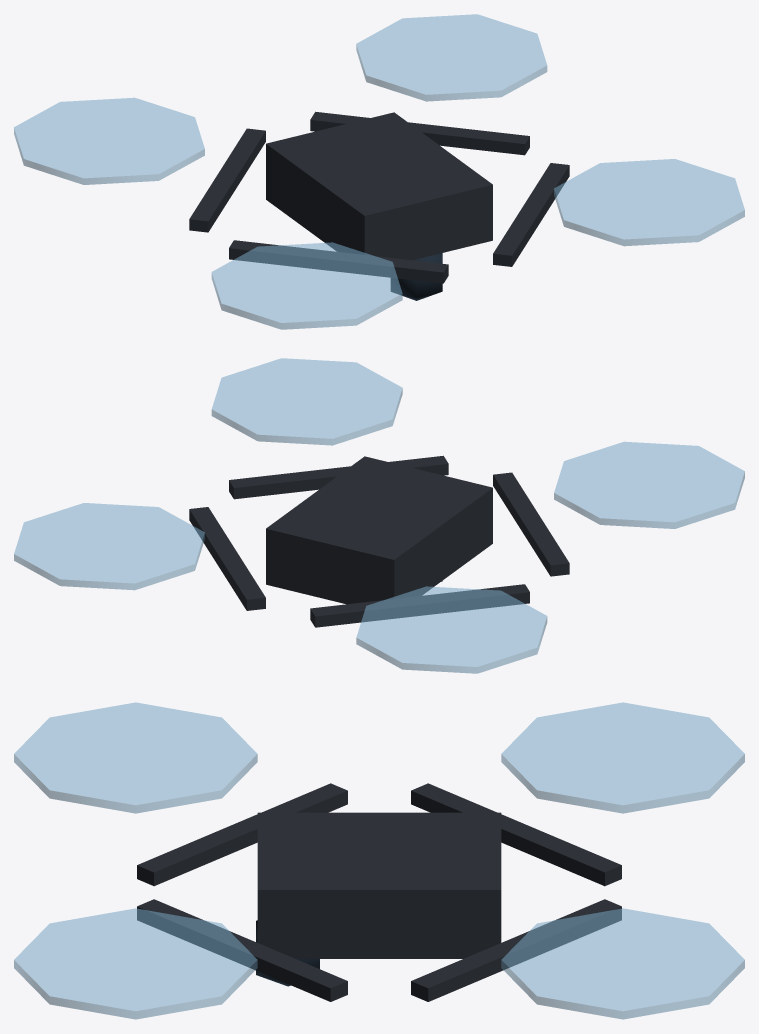
The model's file is veh_air_drone_recon_a08.glb.
The picture shows the model from 3 angles, top to bottom: view 1: azimuth 30°, elevation 25°; view 2: azimuth 150°, elevation 25°; view 3: azimuth 270°, elevation 25°; orthographic projection. The views are drawn at different scales.
Parts seen in each view (by area): view 1: body, rotor_1, rotor_2, rotor_0, rotor_3; view 2: body, rotor_0, rotor_3, rotor_1, rotor_2; view 3: body, rotor_0, rotor_1, rotor_2, rotor_3.
Boxes of the visible parts, box(x1,y1,x2,y2) form: body: box(189, 111, 569, 300); rotor_1: box(211, 242, 402, 329); rotor_2: box(356, 14, 547, 101); rotor_0: box(554, 159, 744, 246); rotor_3: box(14, 97, 204, 184); body: box(189, 455, 569, 627); rotor_0: box(211, 358, 402, 445); rotor_3: box(356, 586, 547, 673); rotor_1: box(554, 441, 744, 528); rotor_2: box(14, 503, 204, 590); body: box(137, 783, 621, 1001); rotor_0: box(14, 908, 257, 1019); rotor_1: box(14, 702, 257, 813); rotor_2: box(501, 908, 744, 1019); rotor_3: box(501, 702, 744, 813).
Size of what is drawn, in the model's own units: 2.4 by 0.49 by 2.4.
